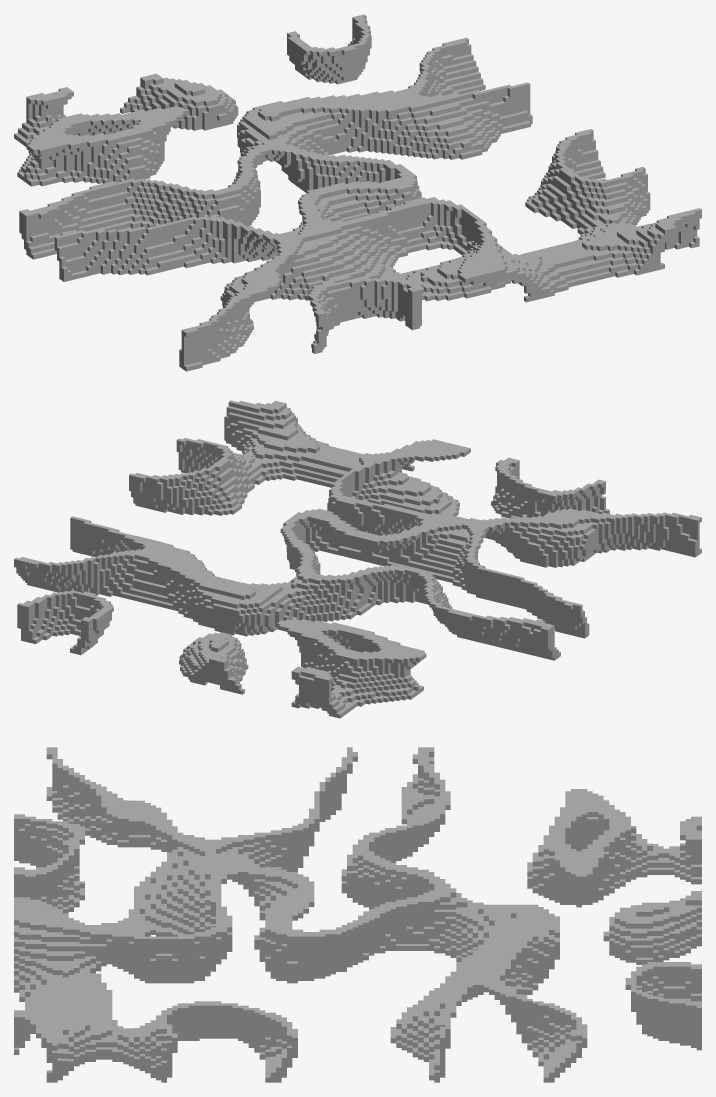
The model's file is church6-12.obj.
3 views of the same model, one above another, from view 1: azimuth 30°, elevation 25°; view 2: azimuth 150°, elevation 25°; view 3: azimuth 270°, elevation 25° (orthographic). The views are drawn at different scales.
Visible parts, largest first — view 1: church6-12; view 2: church6-12; view 3: church6-12.
Boxes of the visible parts, box(x1,y1,x2,y2) form: church6-12: box(14, 14, 701, 371); church6-12: box(14, 400, 701, 718); church6-12: box(14, 747, 701, 1082).
Size of the model in its own units: 126 by 9 by 126.
1 material, 1 textured.
